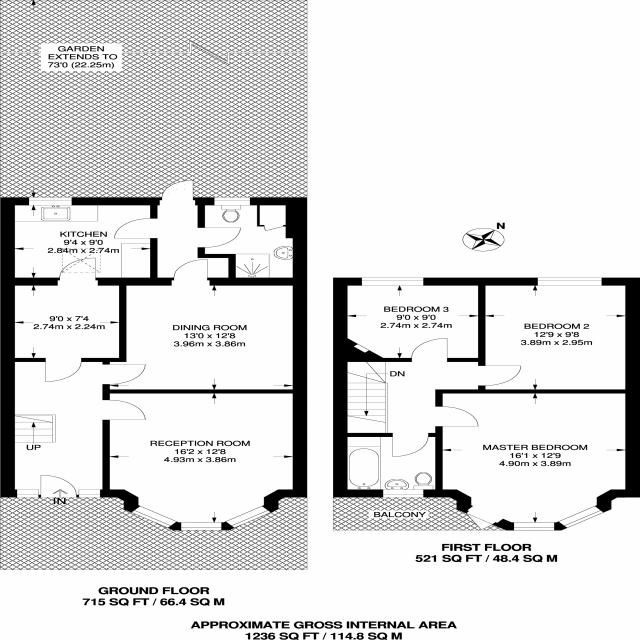DOOR: (56, 257, 99, 286), (169, 259, 211, 286), (102, 399, 146, 421), (158, 180, 196, 205), (113, 218, 158, 239), (197, 227, 242, 248), (410, 338, 449, 362), (44, 358, 83, 382), (435, 406, 479, 427), (478, 365, 522, 386), (102, 364, 146, 385), (391, 433, 429, 457), (40, 474, 77, 498)
ROOM: (435, 389, 640, 531), (102, 389, 307, 531), (102, 259, 307, 394), (478, 277, 640, 394), (0, 197, 158, 286), (333, 277, 486, 362)
WINDOW: (224, 505, 273, 529), (557, 505, 605, 529), (130, 505, 178, 528), (537, 277, 602, 286), (361, 277, 425, 286), (28, 197, 73, 206), (513, 522, 555, 531), (382, 489, 424, 498), (180, 522, 222, 531), (213, 197, 251, 206), (16, 489, 39, 498), (78, 489, 101, 498)
